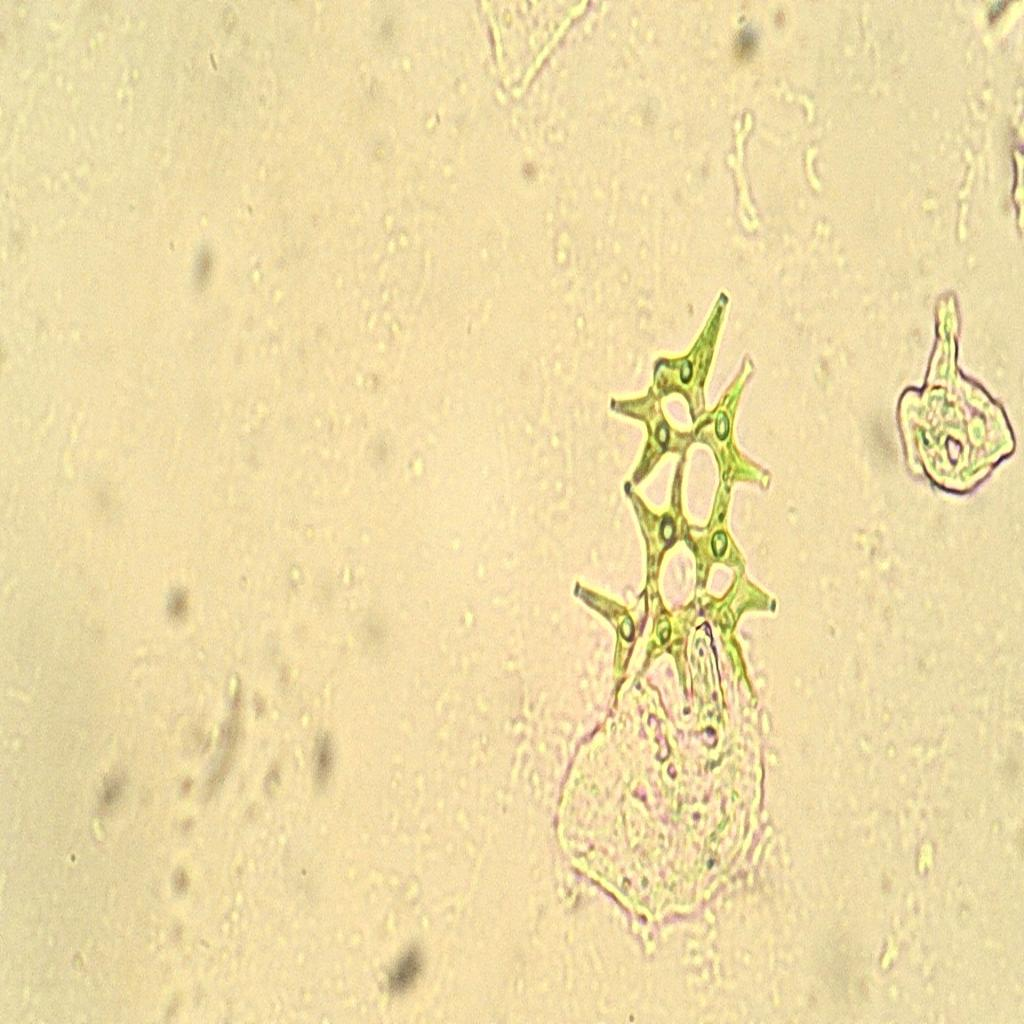Pediastrum_1TH: (560, 278, 790, 771)
